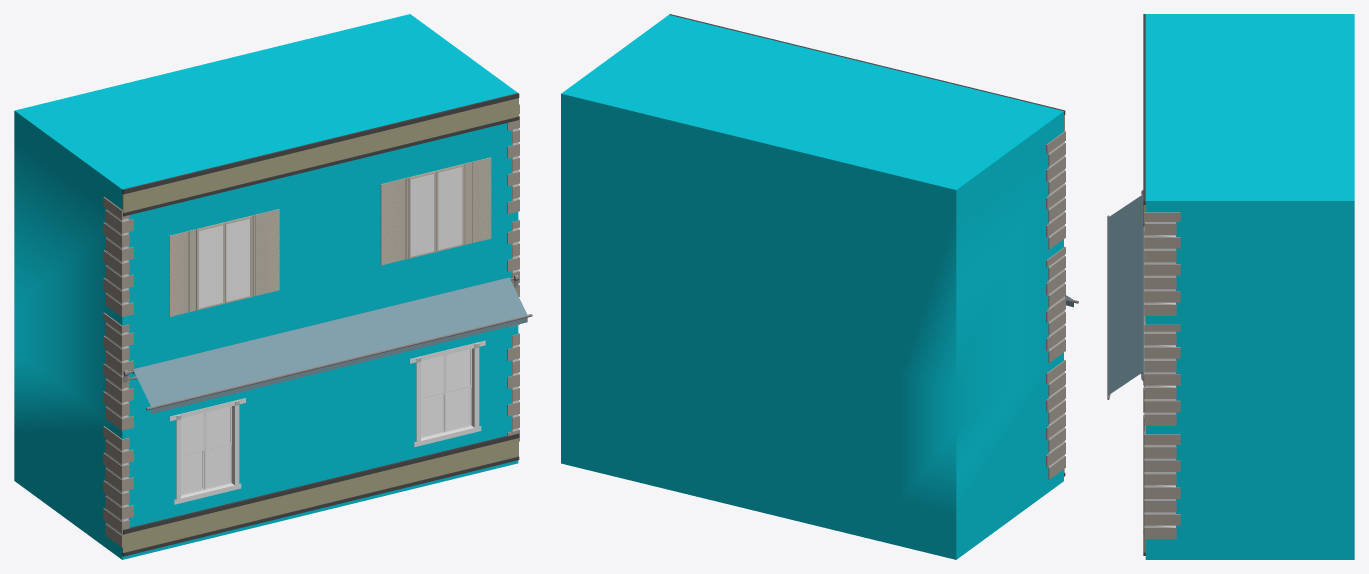
The model's file is last_build_4.fbx.
The picture shows the model from 3 angles, left to right: view 1: azimuth 30°, elevation 25°; view 2: azimuth 150°, elevation 25°; view 3: azimuth 270°, elevation 25°; orthographic projection. The views are drawn at different scales.
Parts seen in each view (by area): view 1: building_4; view 2: building_4; view 3: building_4.
Boxes of the visible parts, bbox=[...] form: building_4: bbox=[14, 14, 532, 559]; building_4: bbox=[561, 14, 1078, 559]; building_4: bbox=[1107, 14, 1354, 559].
Bounding box in the file's own units: 90 × 80 × 50.04.
